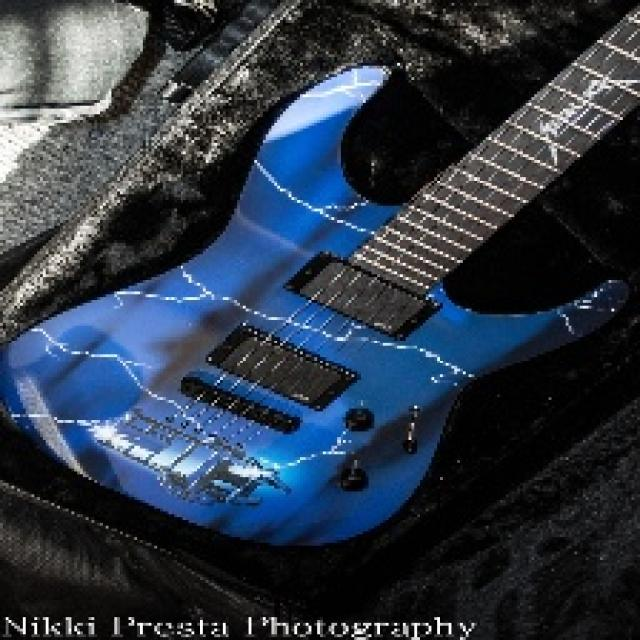guitar: (5, 0, 640, 552)
